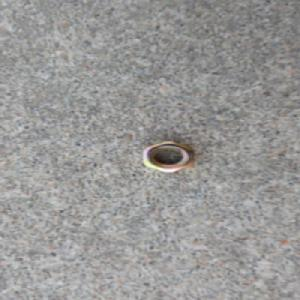Nut: (139, 140, 196, 173)
